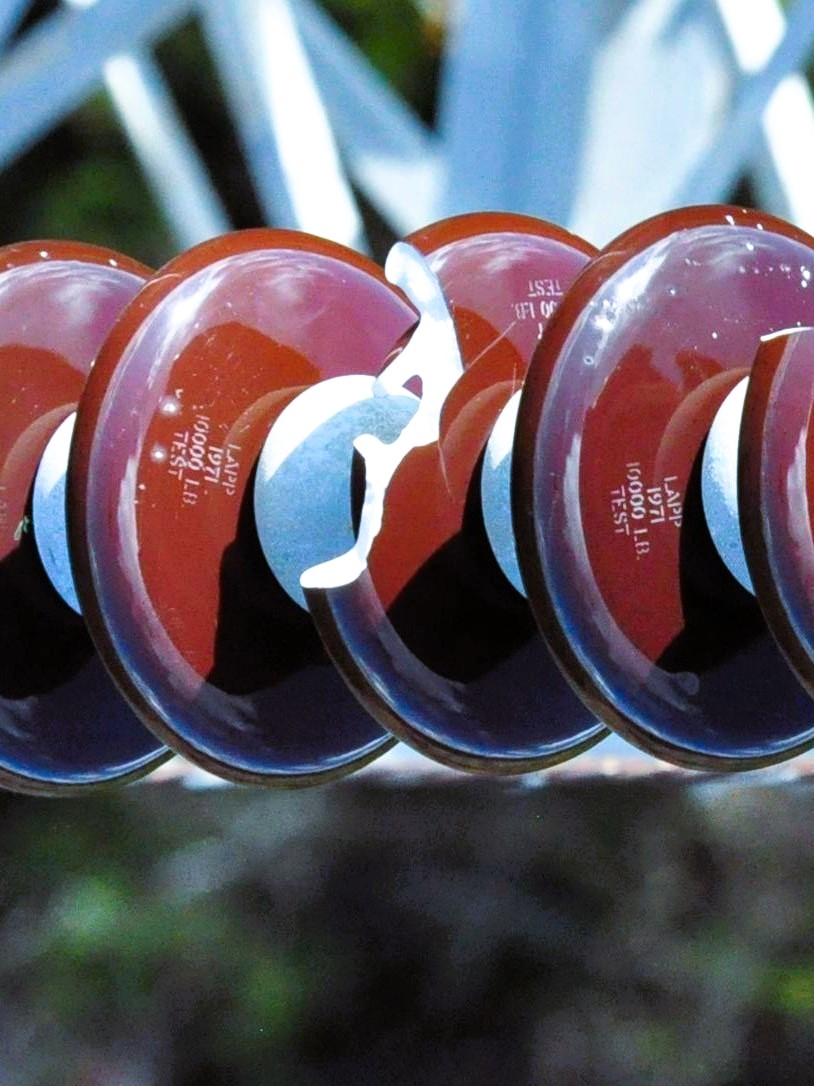insulator breakage: (290, 198, 593, 789)
